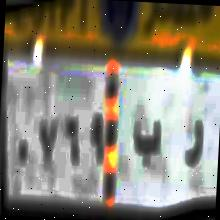0: (11, 134, 34, 182)
6: (62, 112, 84, 170)
7: (34, 111, 61, 177)
9: (88, 109, 106, 170)
baa: (130, 118, 162, 176)
raa: (182, 116, 208, 170)
